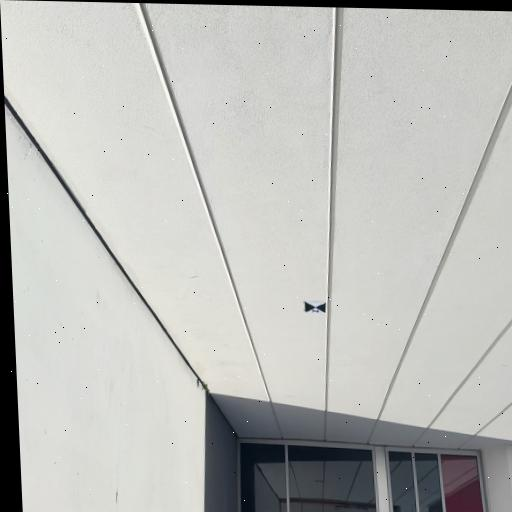target7: (304, 300, 327, 314)
